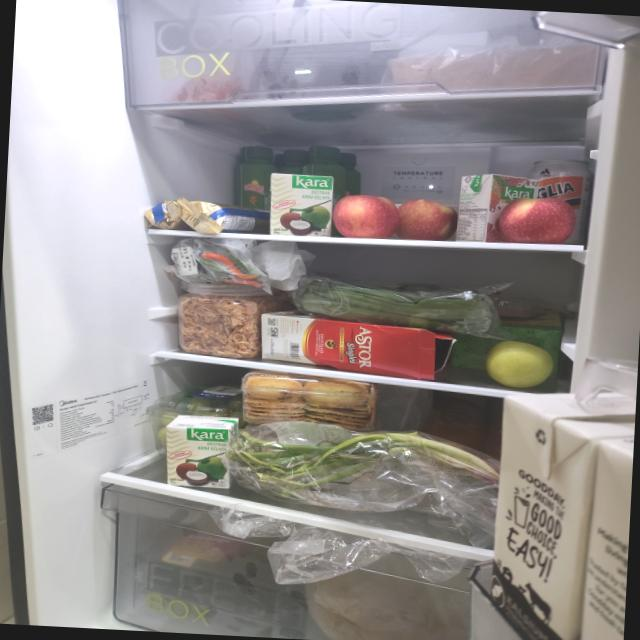apple: (332, 193, 459, 244), (498, 195, 578, 248), (484, 338, 556, 391)
chili: (196, 239, 268, 288)
coconut_milk: (454, 172, 540, 246), (163, 414, 240, 490), (268, 173, 336, 239)
leafy_greens: (297, 276, 495, 338)
spring_onion: (224, 421, 504, 510)
